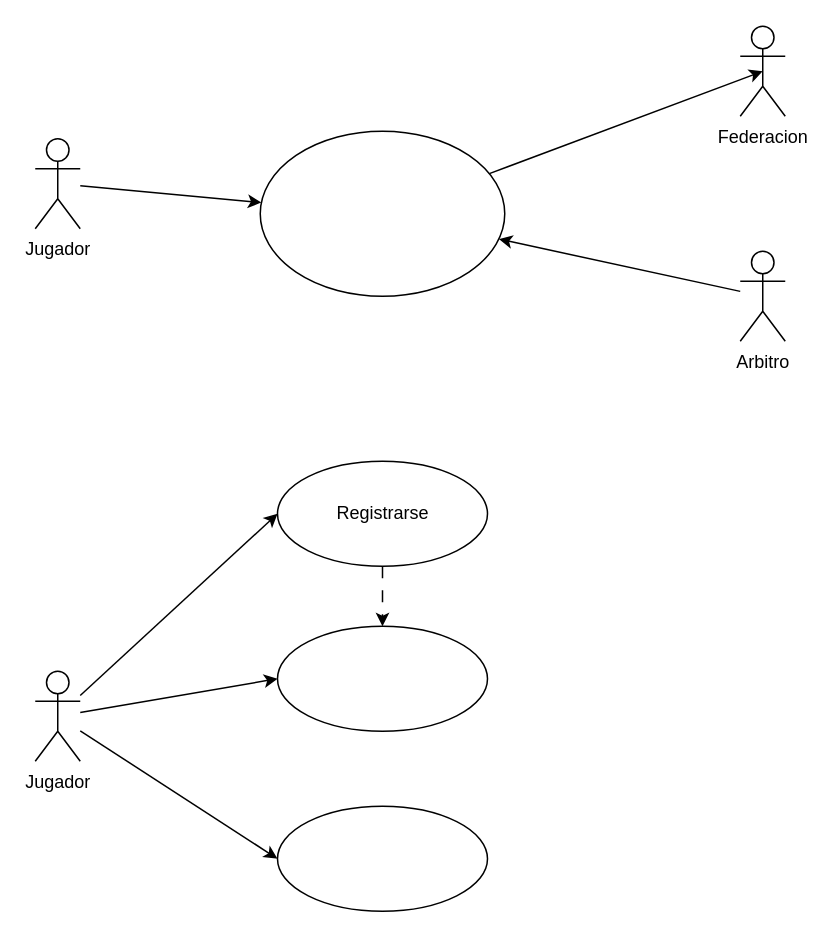
This 834x938 diagram has some shape labels left out. Here are the shapes that lost their labels. From the top down, the centre of each, then its label:
the point at 382,213: Aplicacion de Juegos
the point at 382,678: Iniciar sesion
the point at 382,858: Jugar partida
